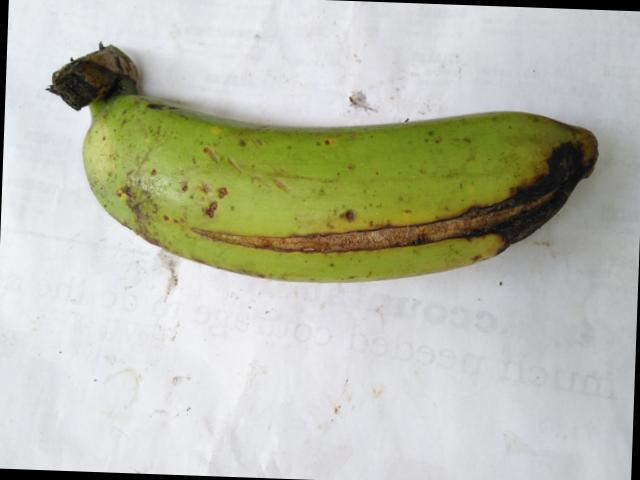rotten: (177, 192, 486, 271), (469, 119, 598, 283)
